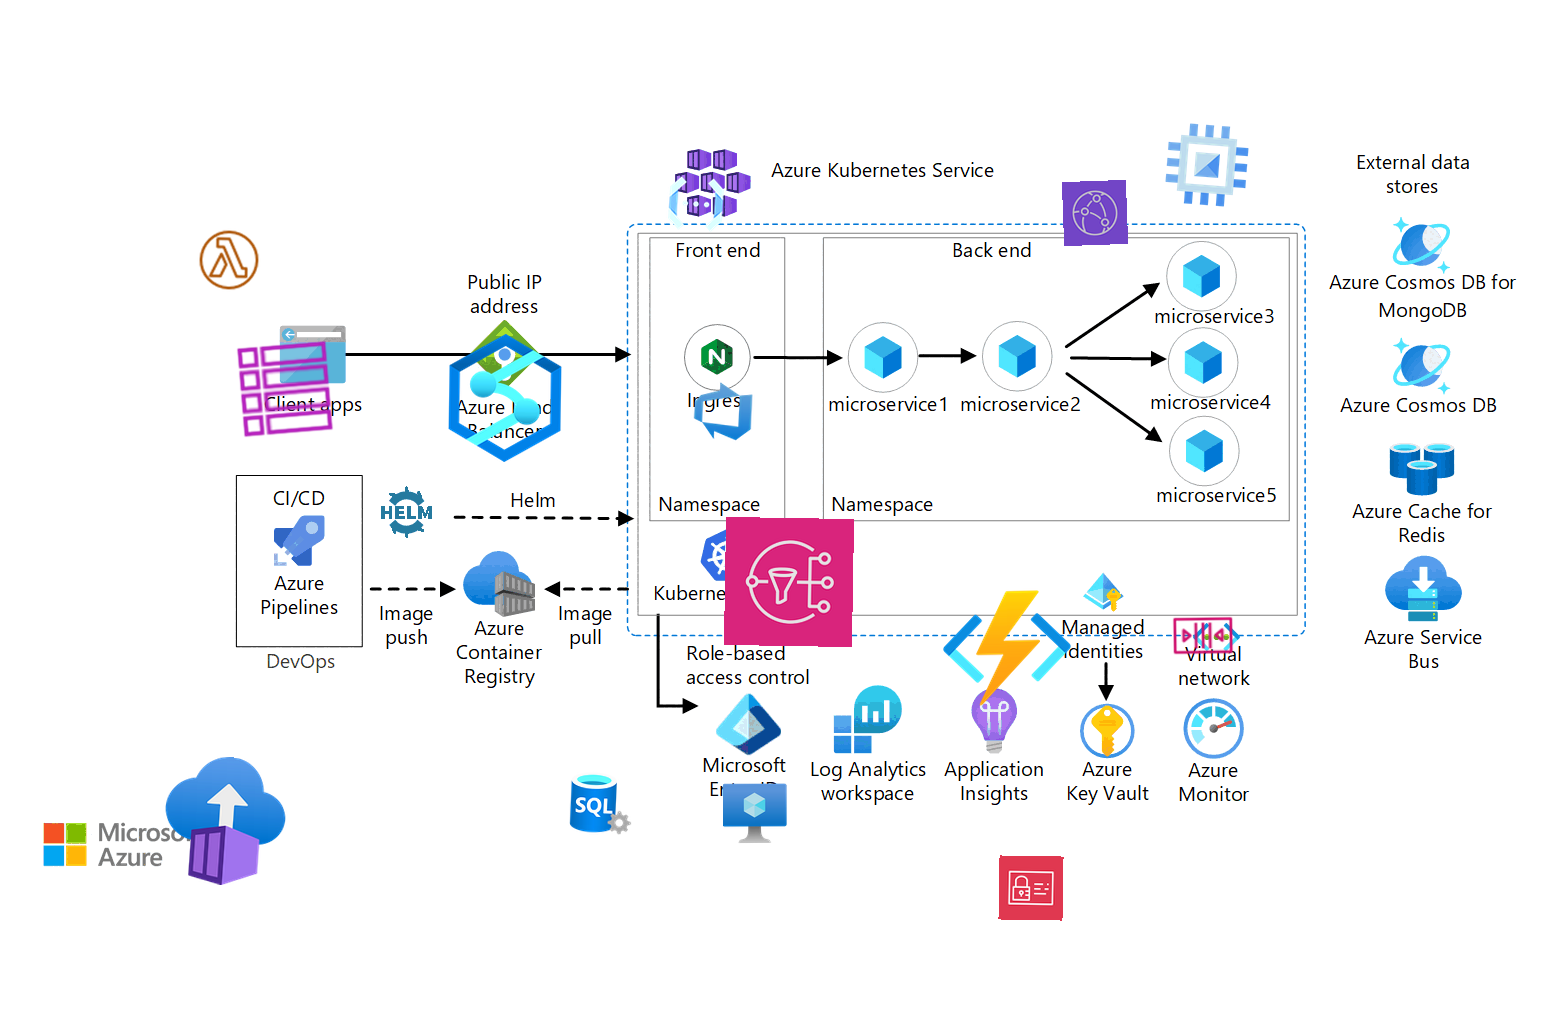aws_amazon_cloudfront: (1061, 179, 1129, 246)
aws_amazon_simple_notification_service: (723, 516, 855, 648)
aws_dynamodb_table: (233, 337, 337, 441)
aws_identity_and_access_management: (998, 855, 1064, 922)
aws_lambda_lambda_function: (196, 227, 262, 293)
aws_simple_queue_service_queue: (1170, 602, 1236, 668)
azure_container_instances: (156, 752, 294, 889)
azure_devops: (689, 377, 757, 445)
azure_function_apps: (941, 582, 1074, 714)
azure_sql_server: (567, 769, 635, 837)
azure_synapse_analytics: (440, 334, 571, 463)
azure_virtual_machine: (722, 782, 788, 848)
gcp_cloud_functions: (661, 168, 731, 240)
gcp_compute_engine: (1155, 113, 1259, 217)
